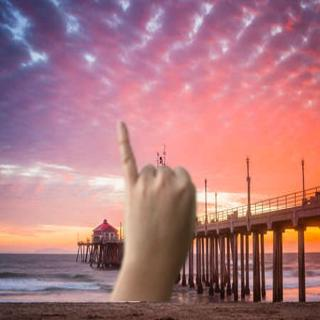FINE: (112, 115, 200, 274)
